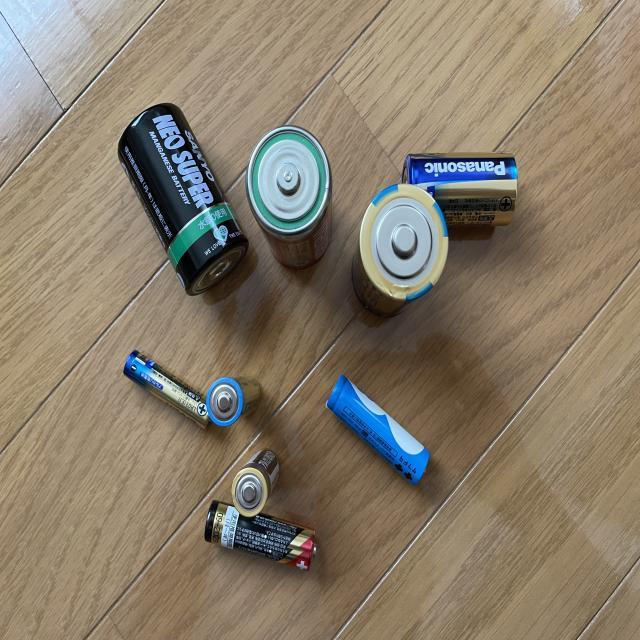hazardous waste: (116, 100, 252, 310), (241, 118, 343, 280), (343, 175, 449, 324), (322, 370, 437, 498), (398, 136, 518, 237), (198, 494, 320, 580), (120, 346, 218, 434), (228, 440, 289, 520), (201, 374, 273, 428)
